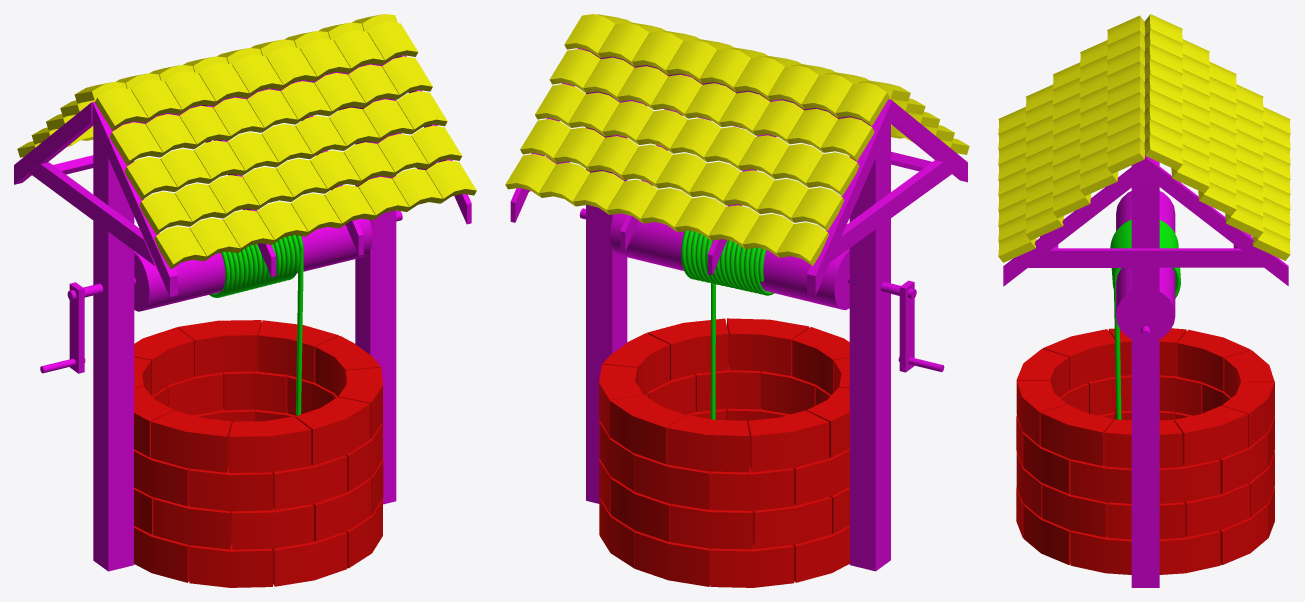
The model's file is pit.fbx.
3 views of the same model, side by side, from view 1: azimuth 30°, elevation 25°; view 2: azimuth 150°, elevation 25°; view 3: azimuth 270°, elevation 25° (orthographic). The views are drawn at different scales.
Visible parts, largest first — view 1: pCube2, pCube1, pCylinder1, pHelix1, pCube172, pCube4, pCube179, pCube142, pCube5, pCube156, pCube186, pCube110 (+86 smaller); view 2: pCube2, pCube1, pCylinder1, pHelix1, pCube4, pCube188, pCube173, pCube174, pCube170, pCube166, pCube104, pCube180 (+86 smaller); view 3: pCube1, pCube3, pCylinder1, pCube9, pCube10, pCube168, pCube177, pCube169, pCube116, pCube118, pCube124, pCube178 (+85 smaller).
Part boxes in pixels (x1,y1,x2,y2): pCube2: [93, 121, 134, 571]; pCube1: [355, 57, 396, 504]; pCylinder1: [134, 218, 372, 311]; pHelix1: [209, 235, 303, 415]; pCube172: [179, 320, 259, 376]; pCube4: [29, 162, 155, 266]; pCube179: [151, 415, 231, 472]; pCube142: [232, 506, 314, 549]; pCube5: [92, 101, 177, 296]; pCube156: [222, 370, 288, 412]; pCube186: [229, 416, 311, 472]; pCube110: [189, 547, 272, 587]; pCube2: [849, 116, 890, 571]; pCube1: [586, 50, 627, 503]; pCylinder1: [610, 213, 849, 310]; pHelix1: [681, 230, 774, 419]; pCube4: [830, 160, 954, 261]; pCube188: [667, 415, 749, 472]; pCube173: [792, 327, 849, 394]; pCube174: [727, 318, 809, 375]; pCube170: [728, 319, 808, 375]; pCube166: [710, 468, 794, 510]; pCube104: [710, 545, 794, 587]; pCube180: [748, 410, 829, 472]; pCube1: [1131, 154, 1159, 587]; pCube3: [1028, 248, 1263, 267]; pCylinder1: [1116, 191, 1175, 338]; pCube9: [1146, 156, 1288, 286]; pCube10: [1003, 156, 1145, 286]; pCube168: [1040, 404, 1113, 465]; pCube177: [1177, 329, 1250, 391]; pCube169: [1043, 329, 1115, 390]; pCube116: [1070, 531, 1131, 574]; pCube118: [1159, 530, 1220, 574]; pCube124: [1042, 485, 1105, 537]; pCube178: [1174, 408, 1245, 465].
Bounding box in the file's own units: 3.48 × 4.46 × 2.65.
